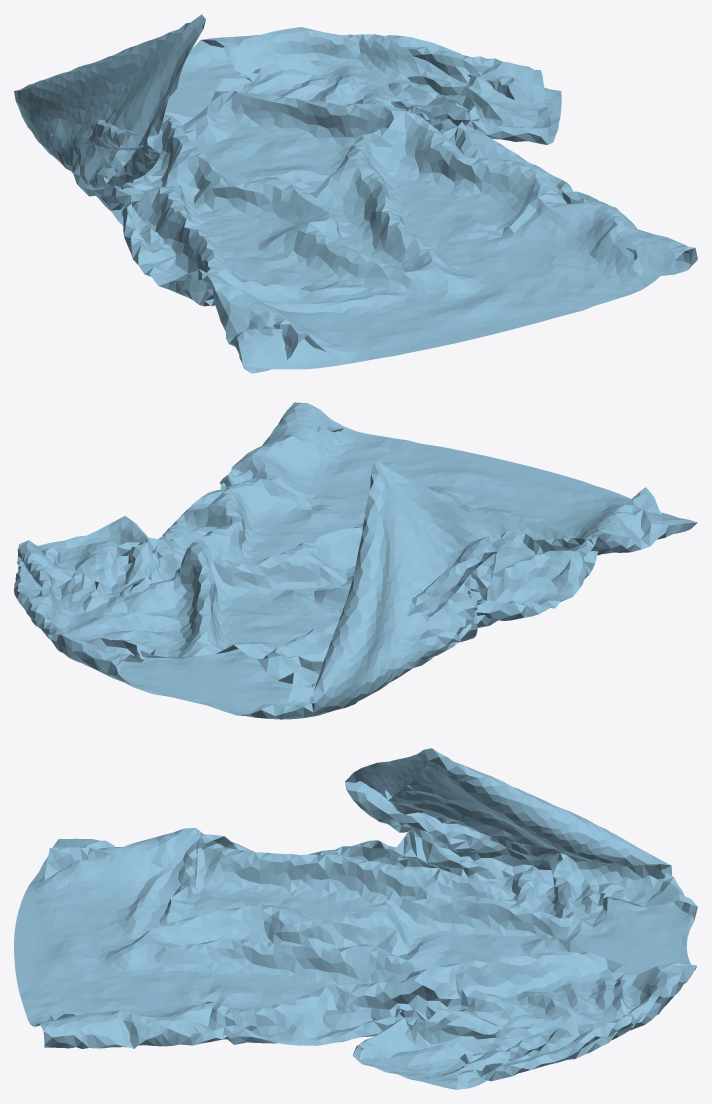
The model's file is frame_14.glb.
3 views of the same model, one above another, from view 1: azimuth 30°, elevation 25°; view 2: azimuth 150°, elevation 25°; view 3: azimuth 270°, elevation 25° (orthographic). The views are drawn at different scales.
Parts seen in each view (by area): view 1: frame_14.obj; view 2: frame_14.obj; view 3: frame_14.obj.
Part boxes in pixels (left/top/right/bottom): frame_14.obj: left=14, top=14, right=697, bottom=373; frame_14.obj: left=14, top=402, right=697, bottom=719; frame_14.obj: left=14, top=748, right=697, bottom=1089.
Bounding box in the file's own units: 1.47 × 0.4888 × 1.73.
